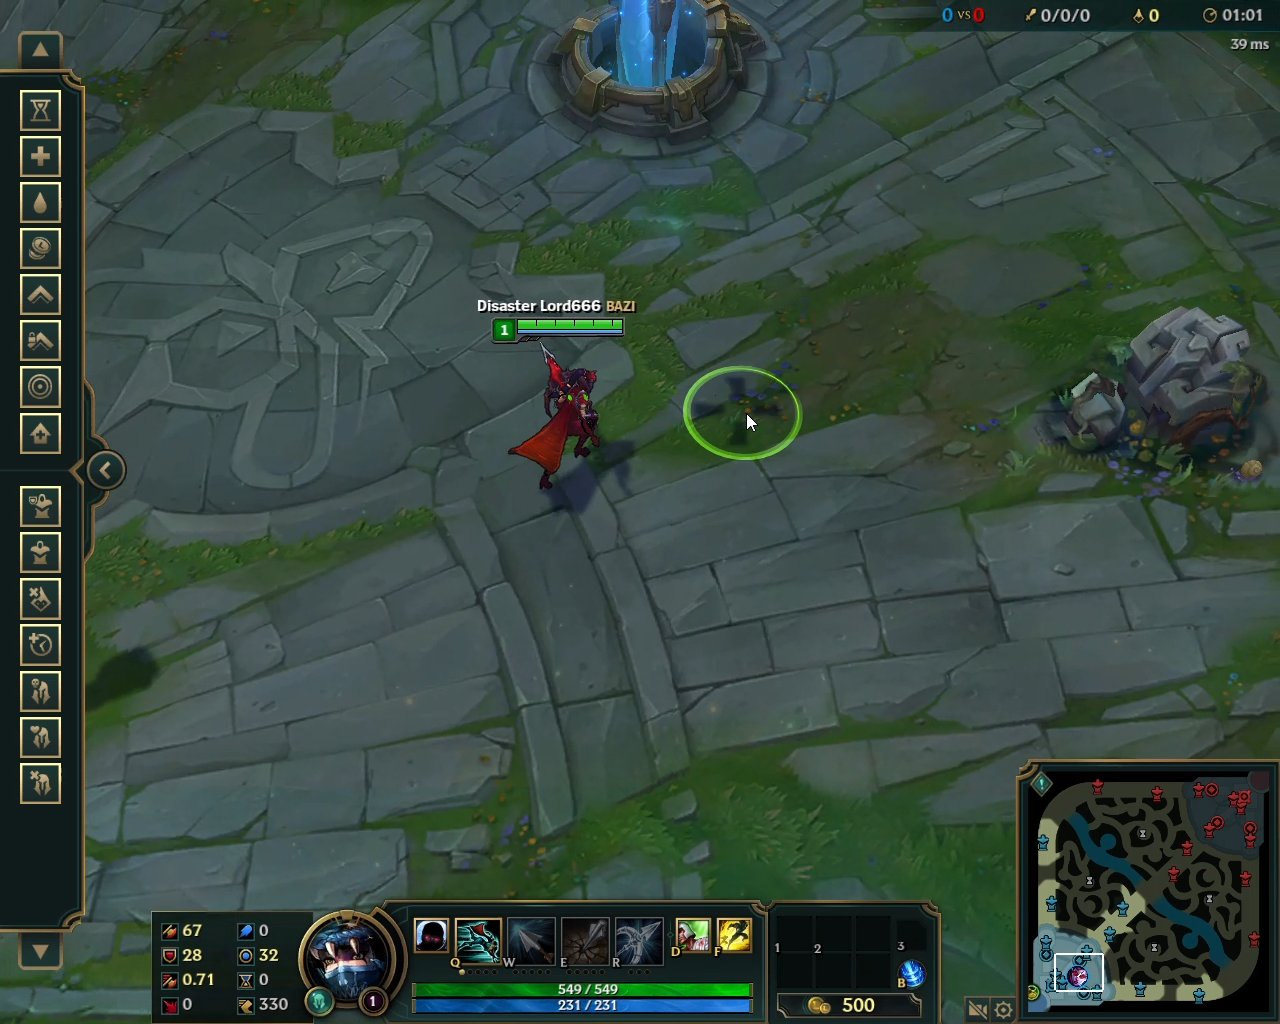Vayne: (503, 342, 615, 501)
